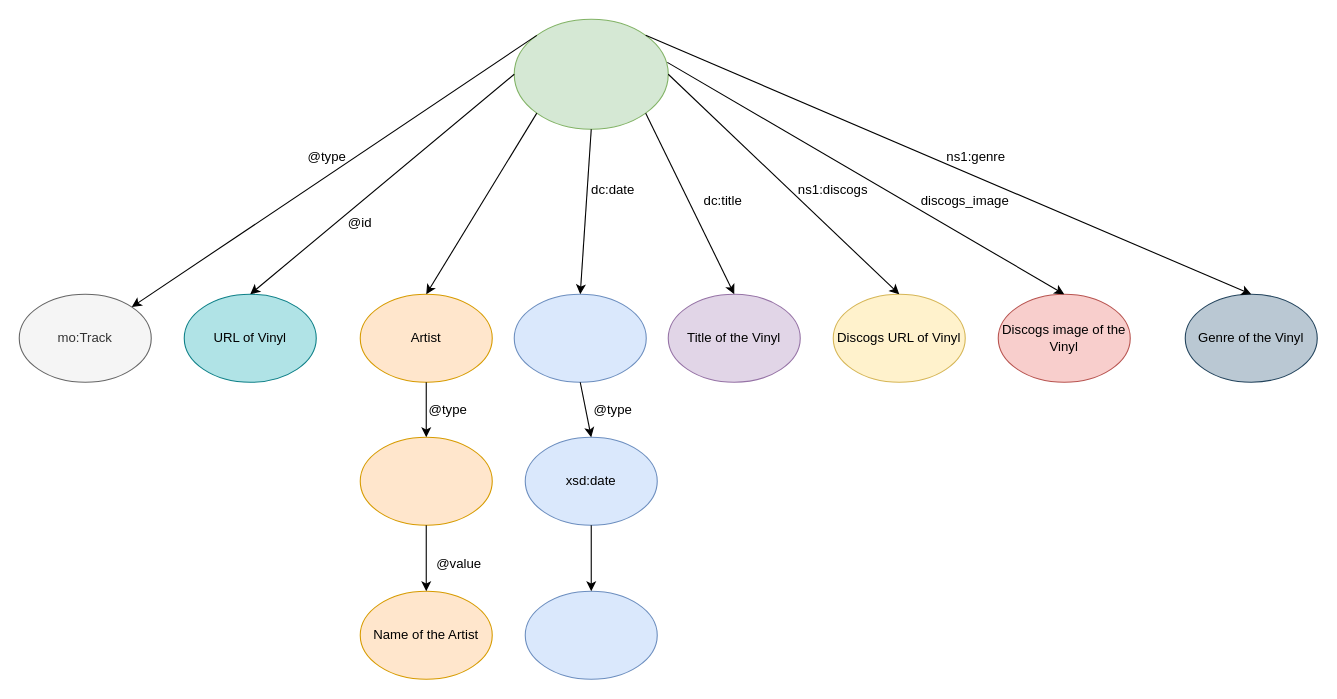
The diagram is 1337 pixels wide and 699 high, and some of its shapes have lost their labels. The centre of each missing label's shape, as x and y in pixels:
"Date" goes at pixel 590 634.
"mo:MusicArtist" goes at pixel 425 480.
"Release Date" goes at pixel 579 337.
"Vinyl" goes at pixel 590 73.
